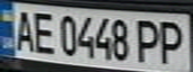0: (54, 11, 78, 57)
4: (90, 14, 115, 61), (75, 12, 96, 60)
8: (109, 15, 133, 63)
A: (9, 7, 36, 52)
E: (30, 7, 57, 55)
P: (154, 17, 190, 65), (133, 16, 163, 64)
